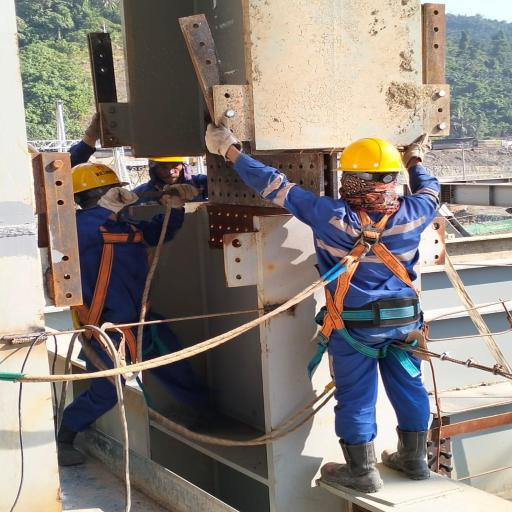safety_shoe: (314, 436, 387, 494), (380, 426, 436, 482), (52, 422, 88, 468)
